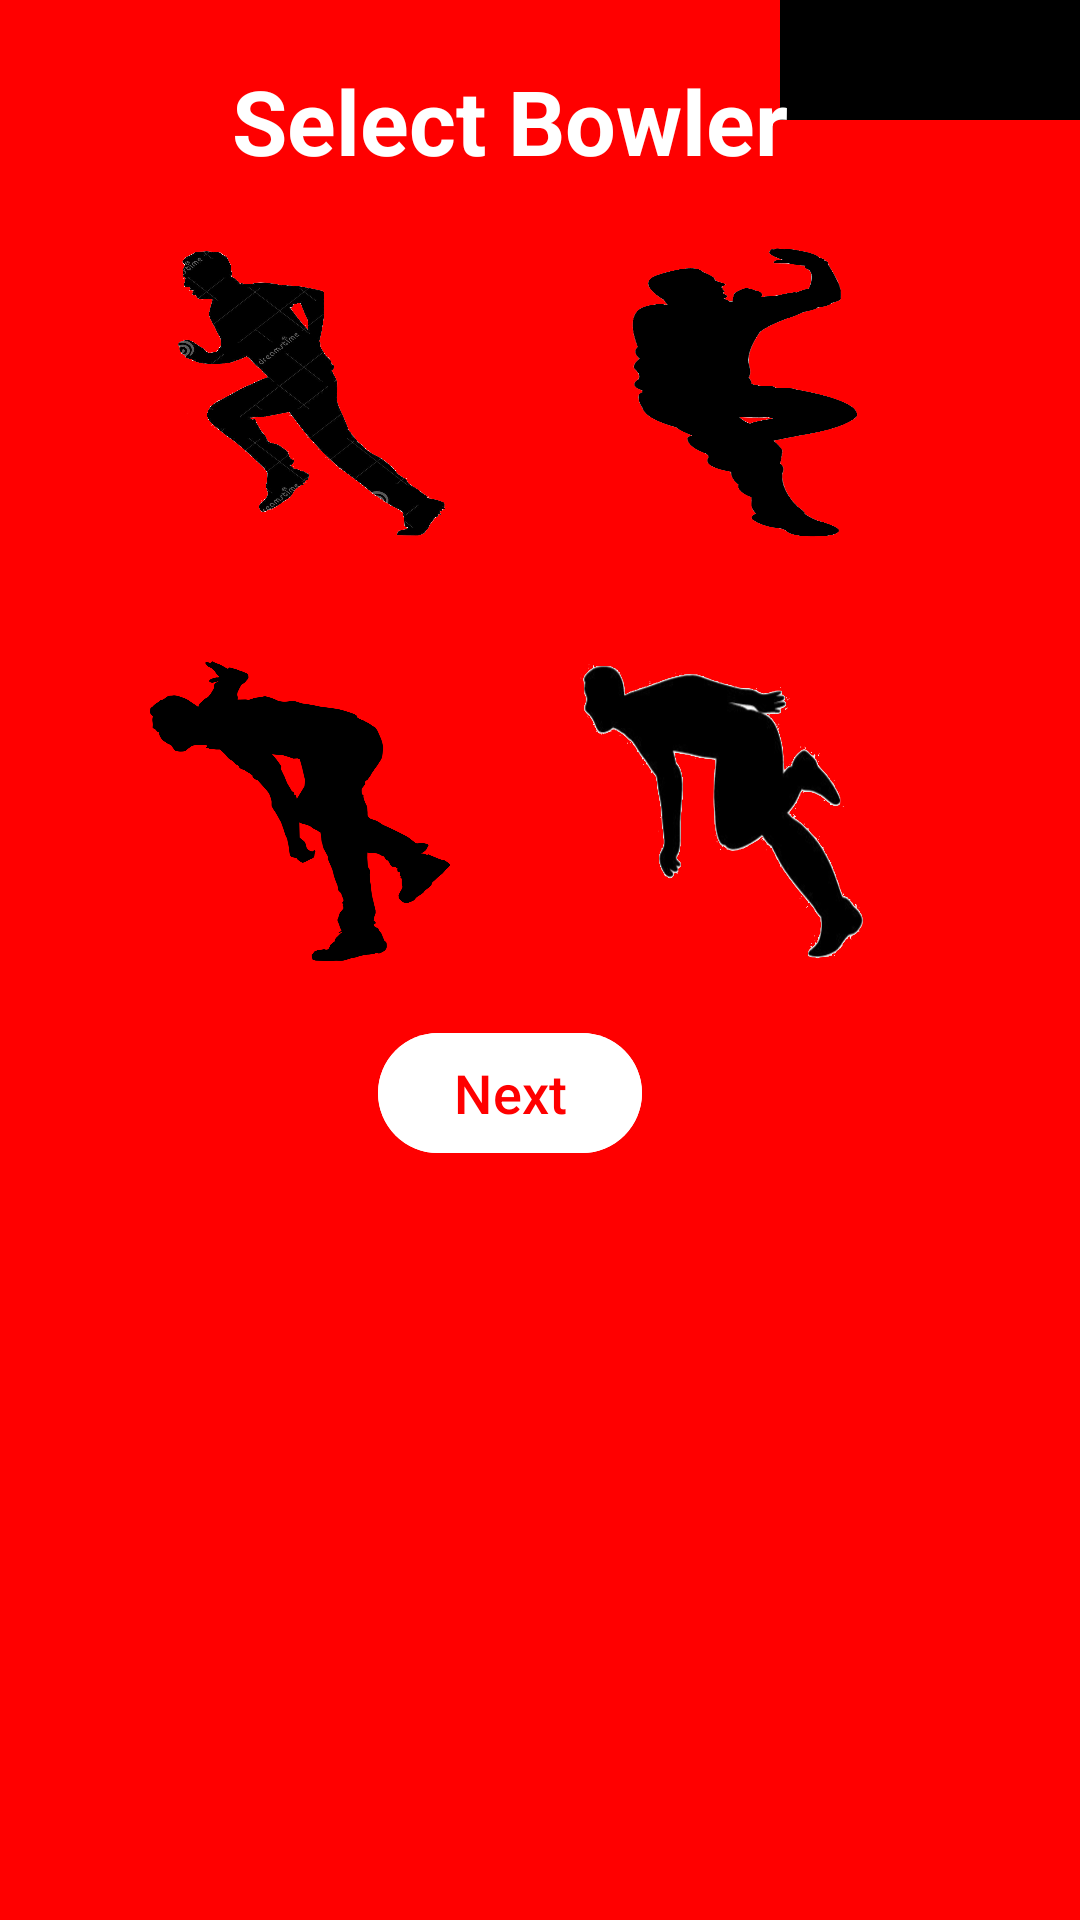

Icon click points for this 1080 × 1920 phone screenshot, format point (x, y):
runner two: point (744, 392)
runnerfour: point (723, 811)
runnerone: point (311, 393)
runnerthree: point (300, 811)
